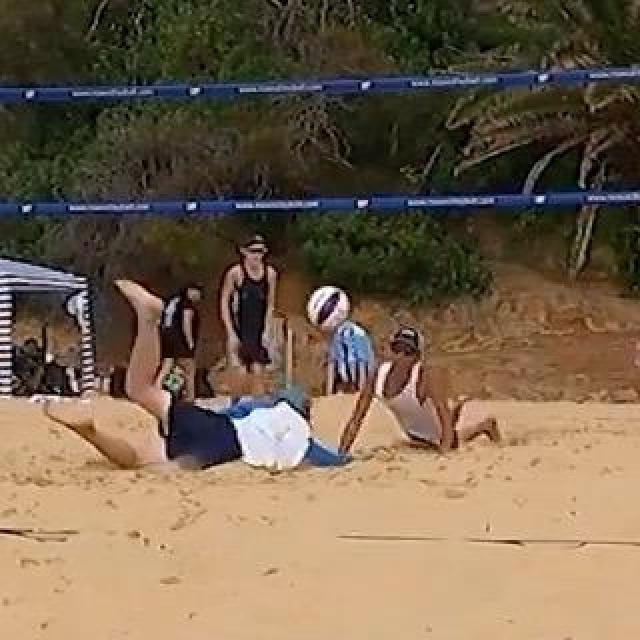volleyball: (307, 287, 353, 329)
